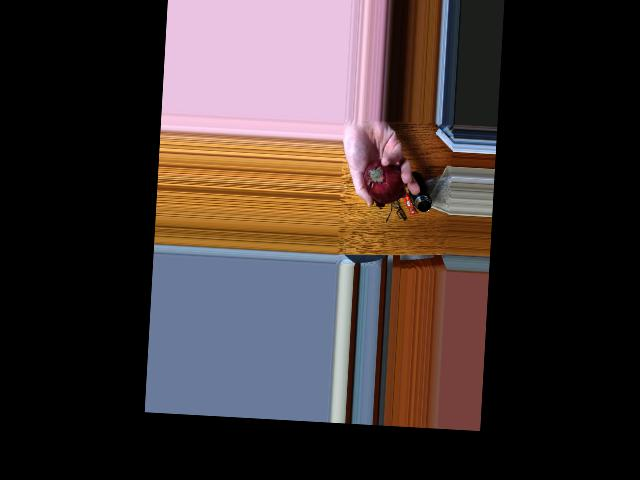onion: (362, 159, 403, 200)
